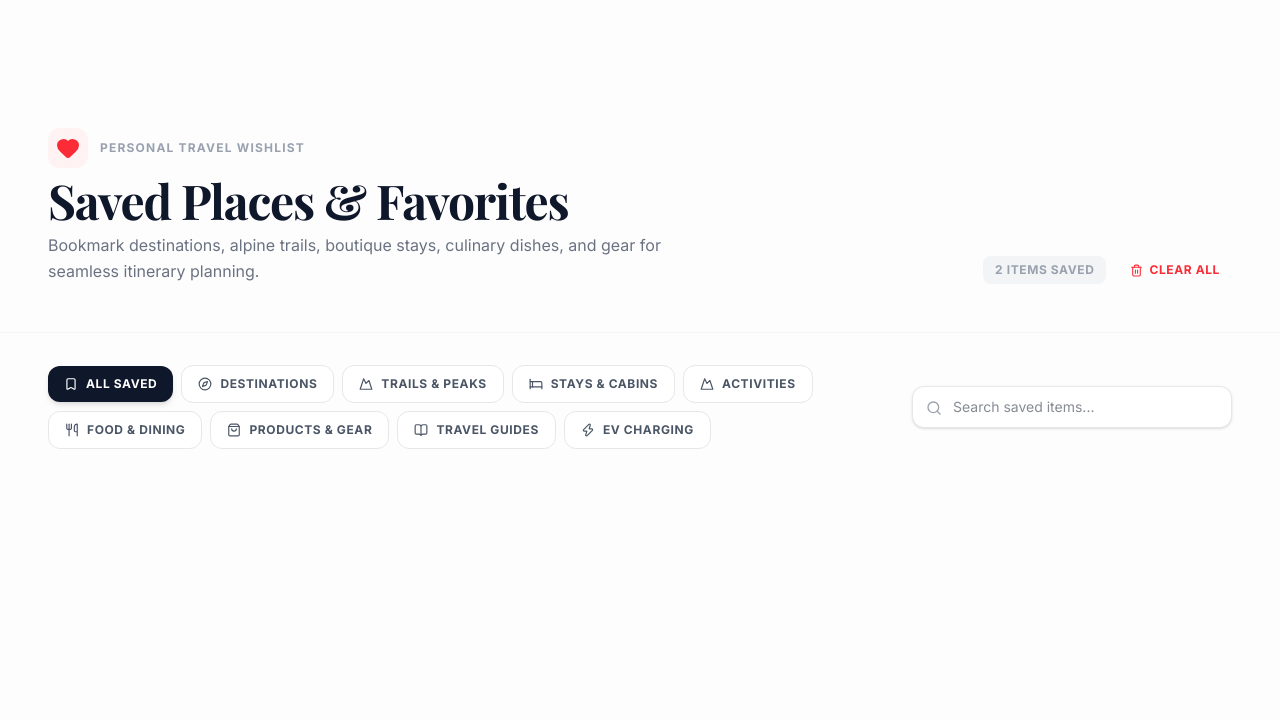
Phase B — Change 5: Complete Favorites System Integration › /favorites Page Hydration and Category Filters › searches and filters saved items in realtime
Type "Thief" into the field with placeholder "Search saved items..." at (1072, 407), box [912,386,1232,428]
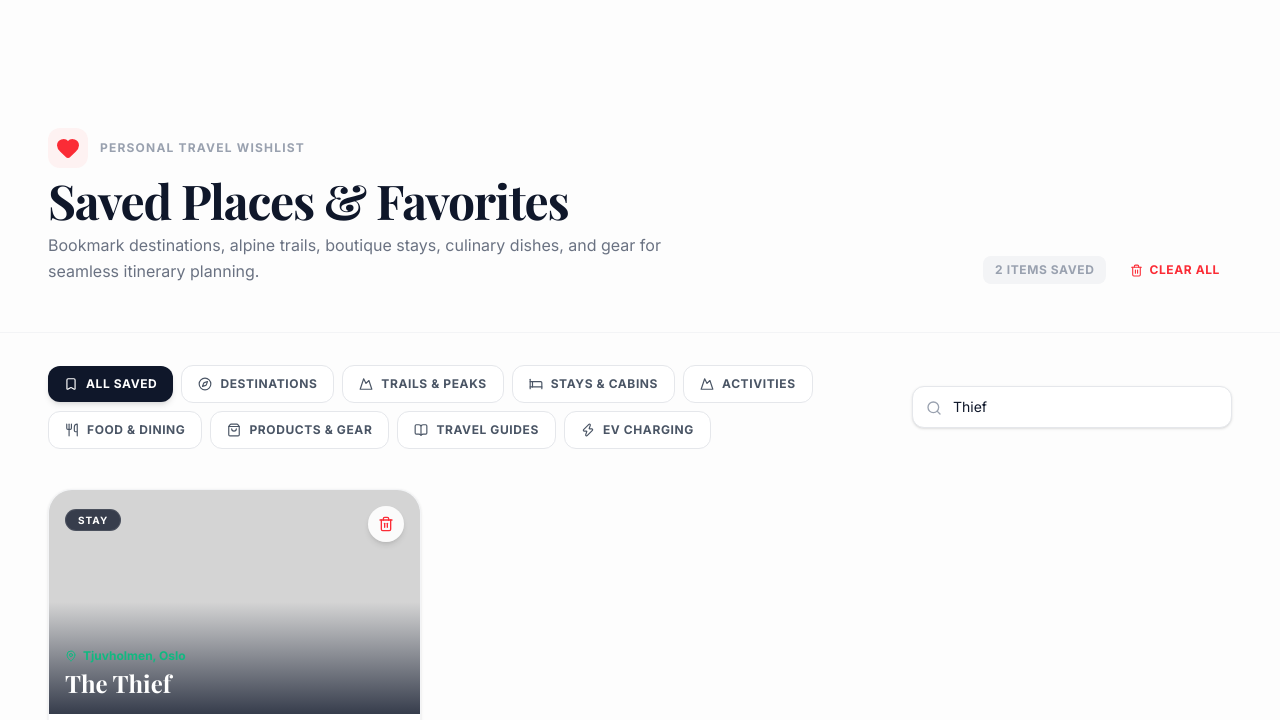
Expected: the heading "The Thief" is shown, [65,667,171,699]
